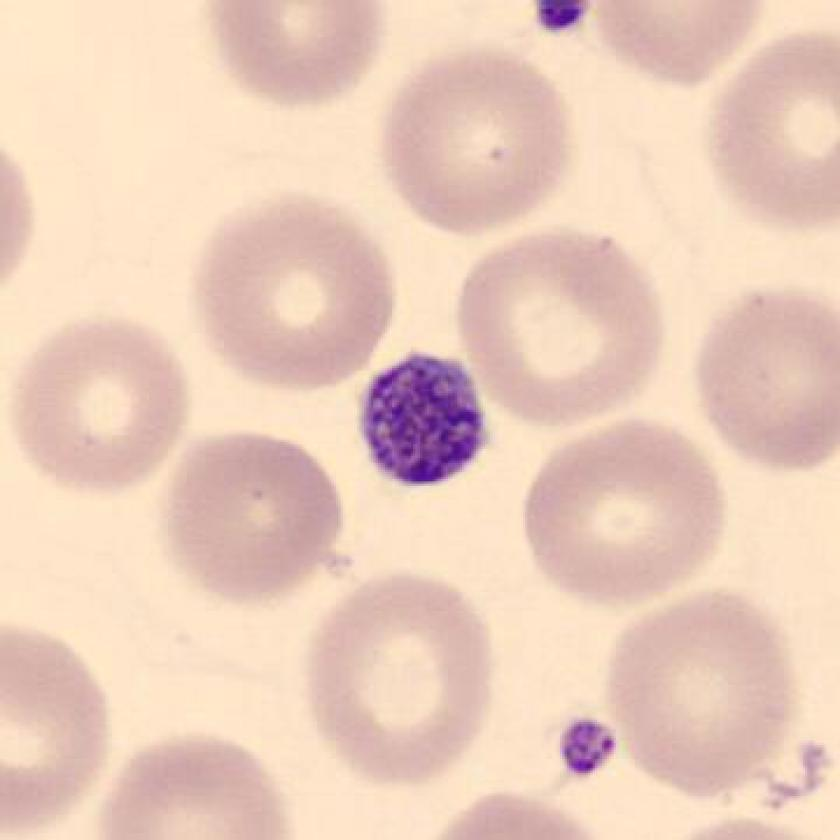platelets: (353, 351, 496, 492), (554, 707, 615, 785), (524, 1, 591, 36)
